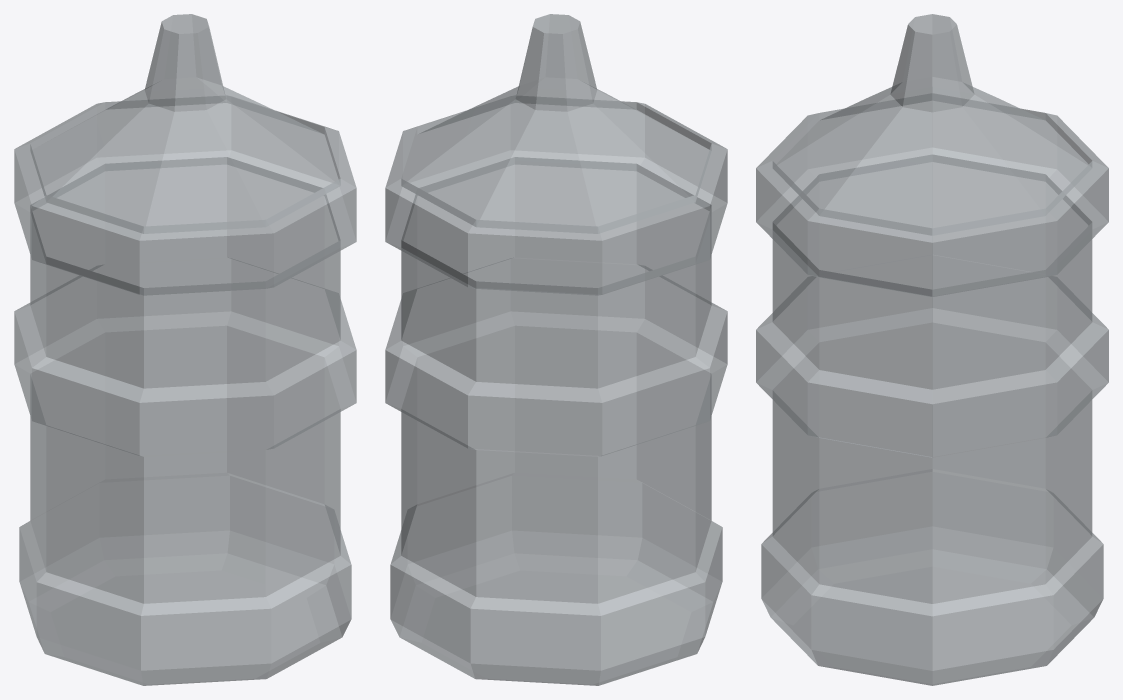
File: Jug_Grey.fbx
3 views of the same model, side by side, from view 1: azimuth 30°, elevation 25°; view 2: azimuth 150°, elevation 25°; view 3: azimuth 270°, elevation 25° (orthographic).
Visible parts, largest first — view 1: Water_Dispenser.002; view 2: Water_Dispenser.002; view 3: Water_Dispenser.002.
Part boxes in pixels (box(x1,y1,x2,y2)): Water_Dispenser.002: box(14, 14, 356, 685); Water_Dispenser.002: box(385, 14, 727, 685); Water_Dispenser.002: box(756, 14, 1108, 685).
Bounding box in the file's own units: 29.78 × 55.96 × 29.78.
